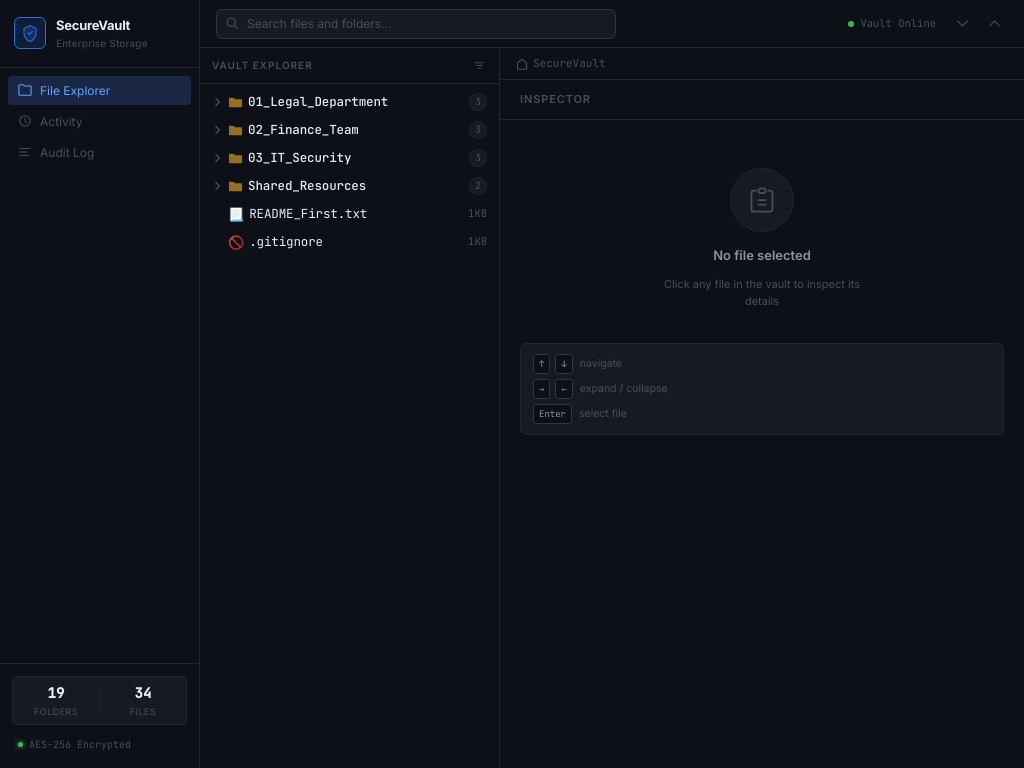
Test: SecureVault explorer interactions › expands and collapses folders with nested descendants
Expected: the text "Active_Cases" is not shown
Click the text "01_Legal_Department".
click(318, 101)  # box [248, 93, 388, 110]
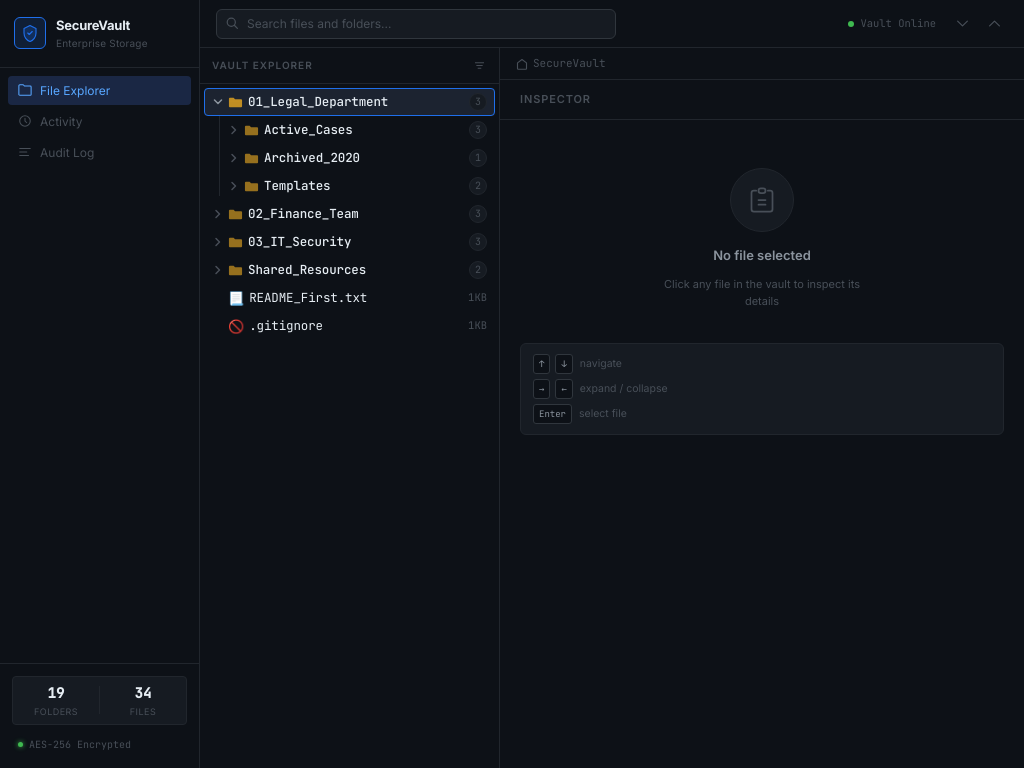
Now the text "Active_Cases" is shown, box [264, 121, 352, 138]
Click the text "01_Legal_Department".
click(318, 101)  # box [248, 93, 388, 110]
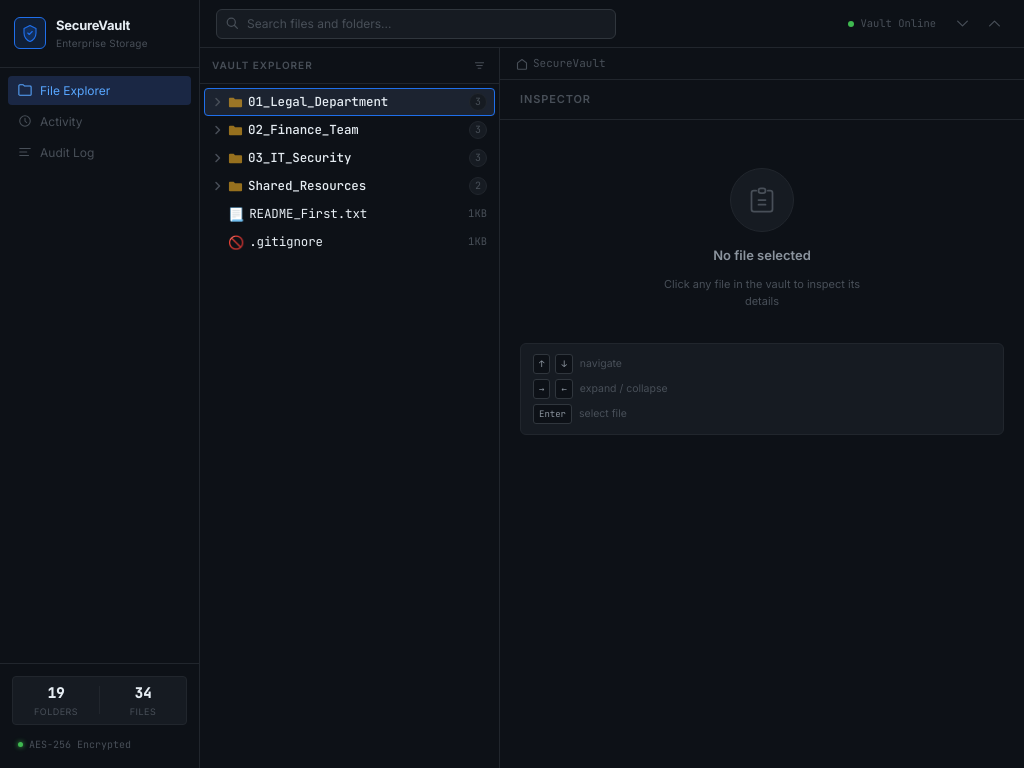
Now the text "Active_Cases" is gone
